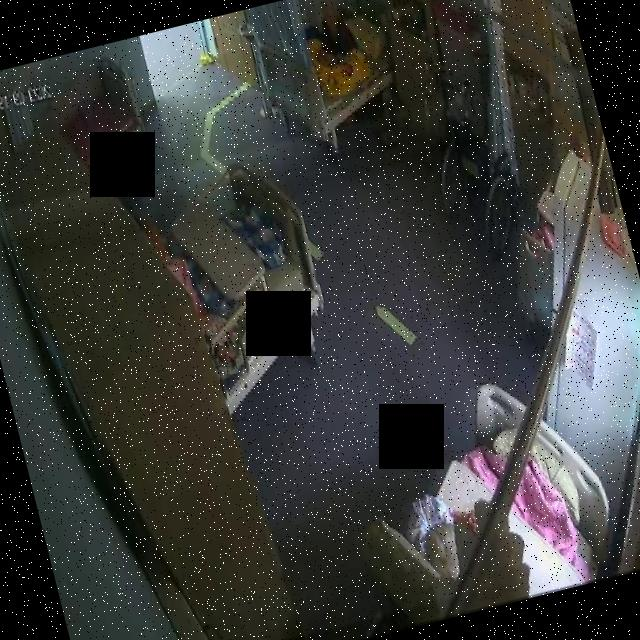bed: (347, 362, 625, 630), (157, 148, 346, 416), (252, 0, 406, 148), (47, 47, 160, 172)
